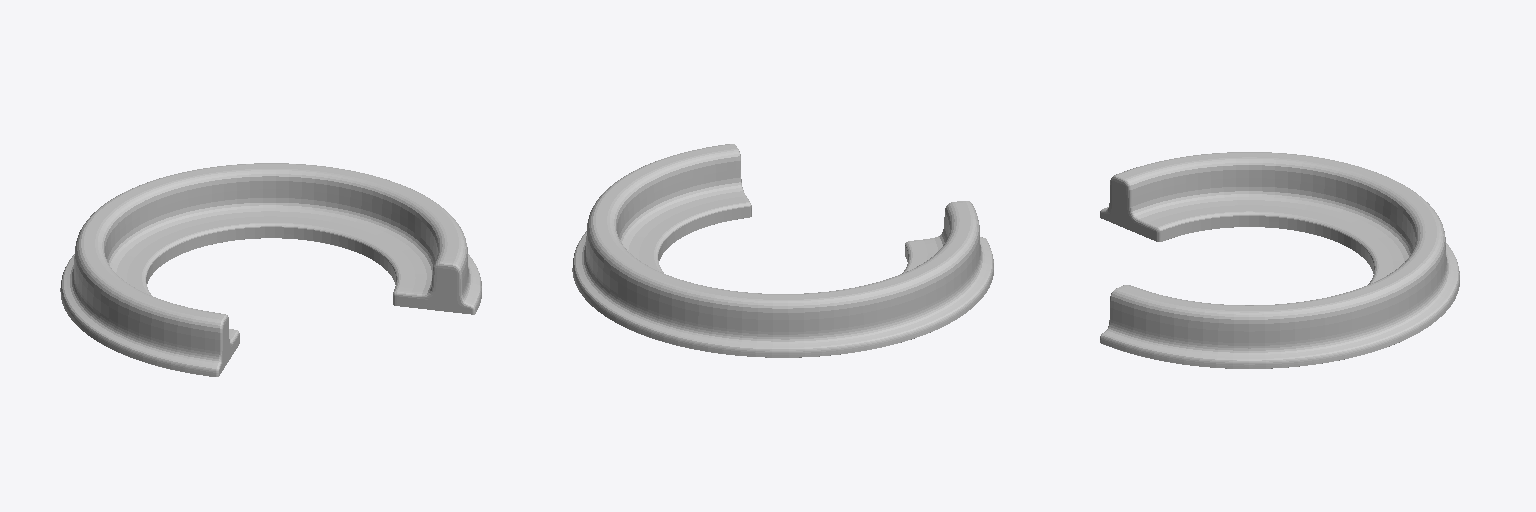
The model's file is shaderball_hd_base.obj.
The picture shows the model from 3 angles: view 1: azimuth 30°, elevation 25°; view 2: azimuth 150°, elevation 25°; view 3: azimuth 270°, elevation 25°; orthographic projection.
Visible parts, largest first — view 1: MaterialBase model_tris; view 2: MaterialBase model_tris; view 3: MaterialBase model_tris.
Boxes of the visible parts, x1,y1,x2,y2 form: MaterialBase model_tris: [60, 163, 481, 376]; MaterialBase model_tris: [572, 144, 993, 357]; MaterialBase model_tris: [1100, 152, 1459, 368].
Bounding box in the file's own units: 269 × 33.93 × 230.